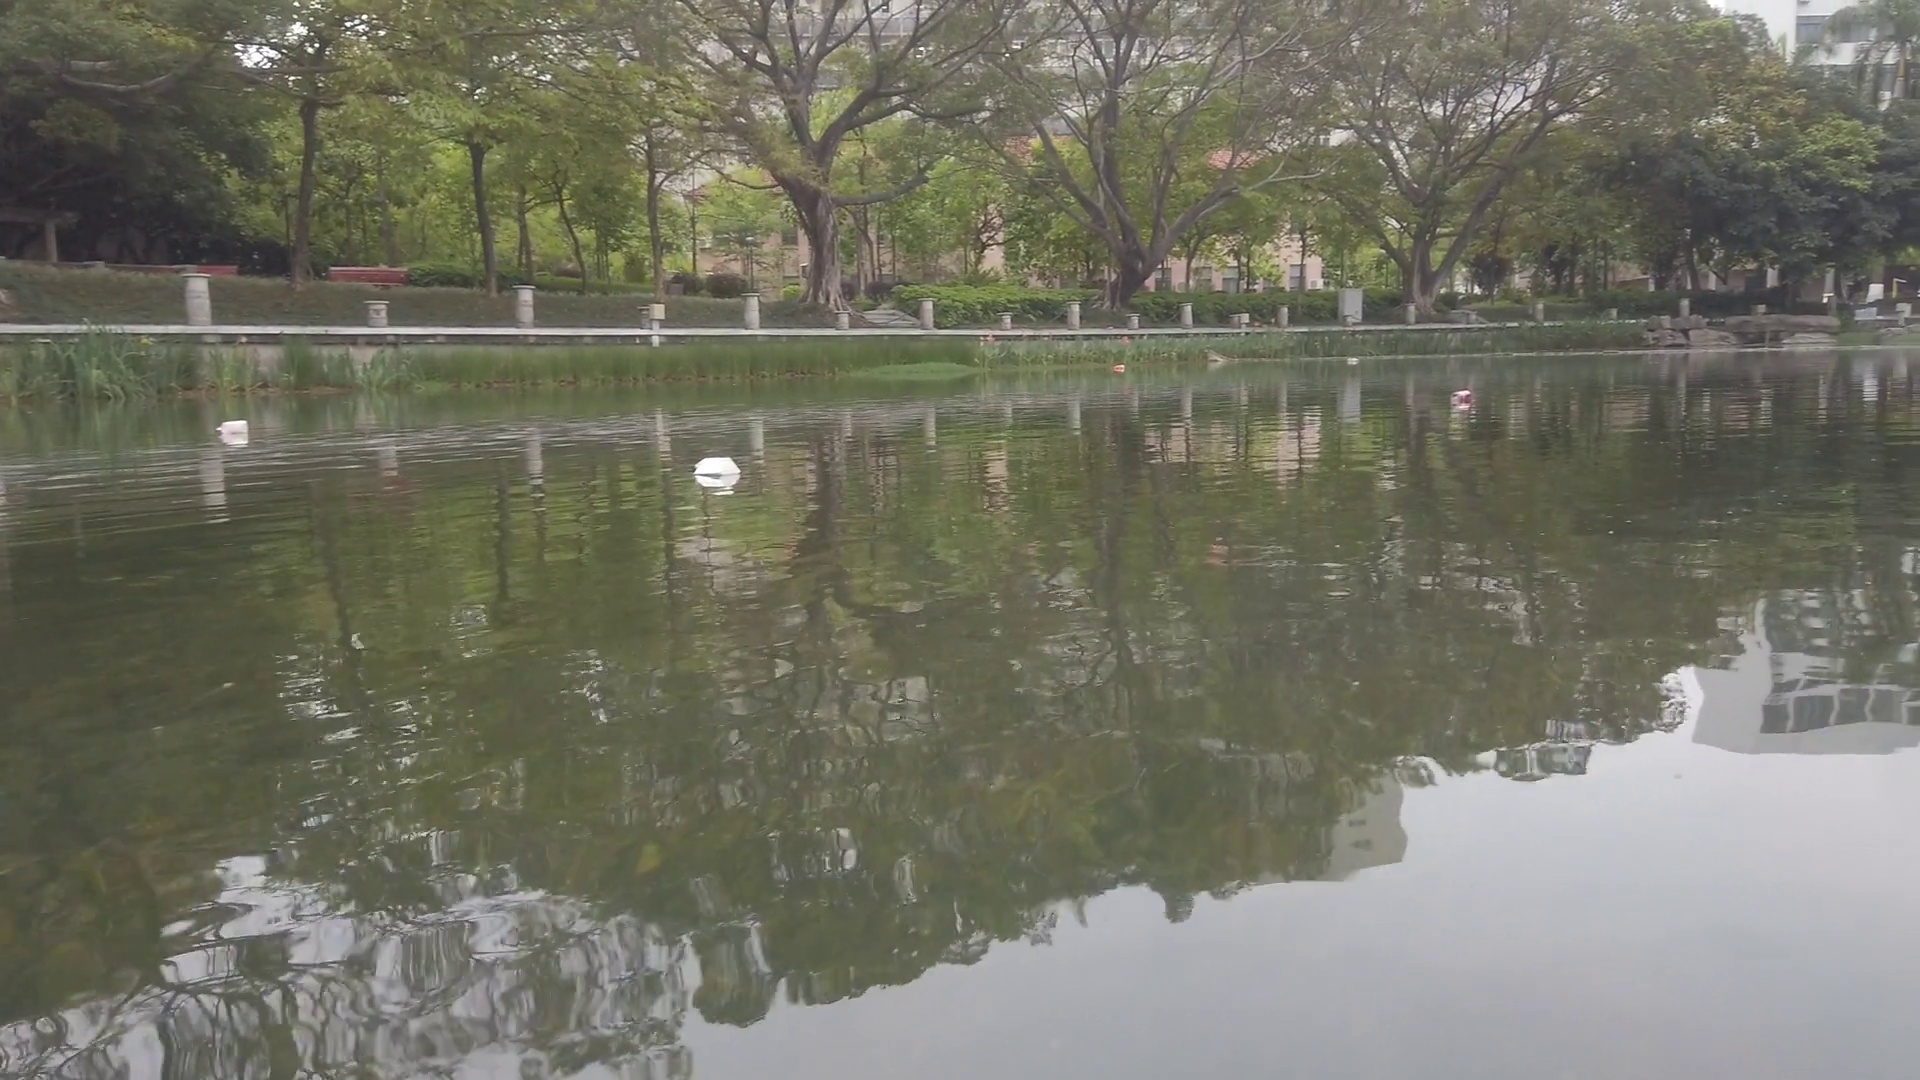bottle: (1451, 386, 1473, 404), (1345, 357, 1360, 364), (1116, 365, 1125, 371)
carton: (702, 454, 740, 479), (218, 421, 248, 436)
